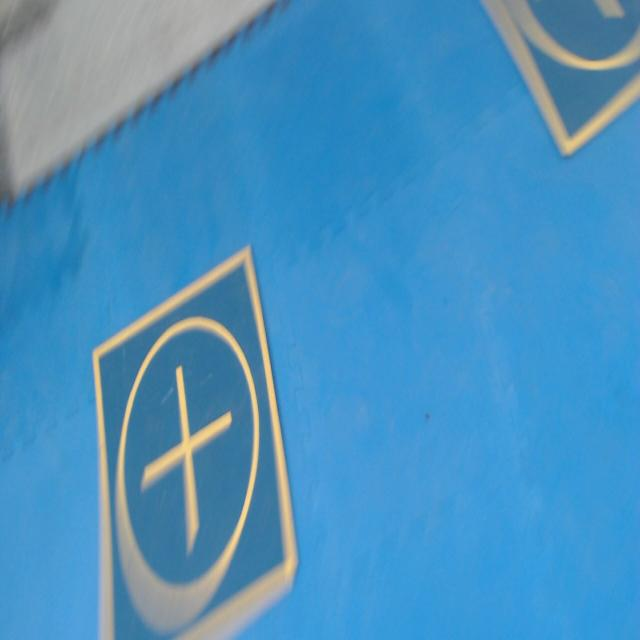base_pouso: (93, 243, 300, 639), (479, 0, 640, 161)
